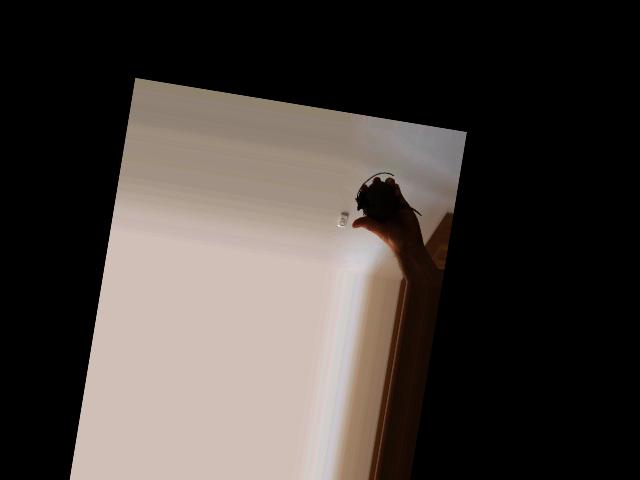beet: (353, 167, 427, 226)
